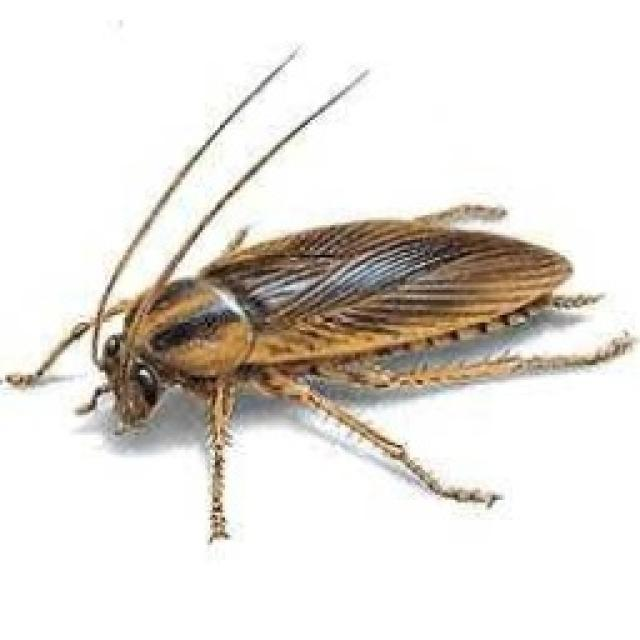cockroach: (4, 42, 635, 549)
